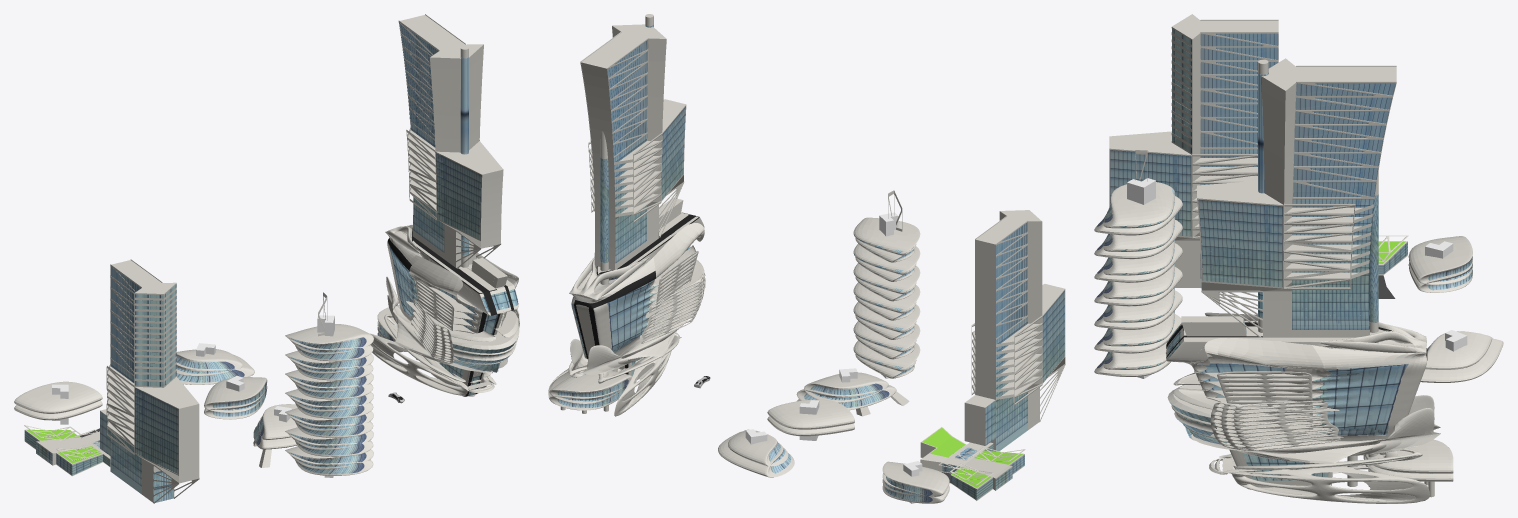
3 views of the same model, side by side, from view 1: azimuth 30°, elevation 25°; view 2: azimuth 150°, elevation 25°; view 3: azimuth 270°, elevation 25° (orthographic). The views are drawn at different scales.
Parts seen in each view (by area): view 1: Cube.002, Cube.001, Cube.024, Cube.013, Cube, Cube.012, Cube.017, Cube.028, Cube.011, Cube.015, Cube.026, Cylinder (+2 smaller); view 2: Cube.001, Cube.002, Cube.024, Cube.013, Cube, Cube.028, Cube.015, Cube.011, Cube.017, Cube.012, Cube.026, Cube.029 (+1 smaller); view 3: Cube.001, Cube.002, Cube.013, Cube.024, Cube.028, Cube.017, Cube.012, Cube.029, Cube.026, Cylinder, Cube, Cube.019.
Part boxes in pixels (<box>): Cube.002: <box>398,14,503,268</box>; Cube.001: <box>370,225,519,396</box>; Cube.024: <box>100,260,199,502</box>; Cube.013: <box>285,324,373,475</box>; Cube: <box>24,428,110,476</box>; Cube.012: <box>14,381,102,420</box>; Cube.017: <box>176,349,254,384</box>; Cube.028: <box>110,266,161,374</box>; Cube.011: <box>204,377,267,419</box>; Cube.015: <box>253,404,297,467</box>; Cube.026: <box>106,366,176,454</box>; Cylinder: <box>460,46,468,279</box>; Cube.001: <box>548,131,705,416</box>; Cube.002: <box>580,24,686,269</box>; Cube.024: <box>964,210,1065,451</box>; Cube.013: <box>853,217,920,378</box>; Cube: <box>920,427,1024,500</box>; Cube.028: <box>996,222,1027,338</box>; Cube.015: <box>796,372,909,416</box>; Cube.011: <box>767,399,854,436</box>; Cube.017: <box>718,429,794,477</box>; Cube.012: <box>882,461,949,503</box>; Cube.026: <box>971,315,1042,405</box>; Cube.029: <box>975,216,1027,339</box>; Cube.001: <box>1166,172,1453,503</box>; Cube.002: <box>1197,58,1396,337</box>; Cube.013: <box>1094,182,1182,376</box>; Cube.024: <box>1109,14,1278,288</box>; Cube.028: <box>1200,33,1278,147</box>; Cube.017: <box>1420,331,1503,382</box>; Cube.012: <box>1408,236,1472,292</box>; Cube.029: <box>1200,19,1278,149</box>; Cube.026: <box>1192,154,1257,239</box>; Cylinder: <box>1258,59,1268,332</box>; Cube: <box>1378,241,1407,298</box>; Cube.019: <box>1127,178,1155,378</box>.
Bounding box in the file's own units: 117 × 90.81 × 78.71.
Materials: 13 (1 with a texture image).
